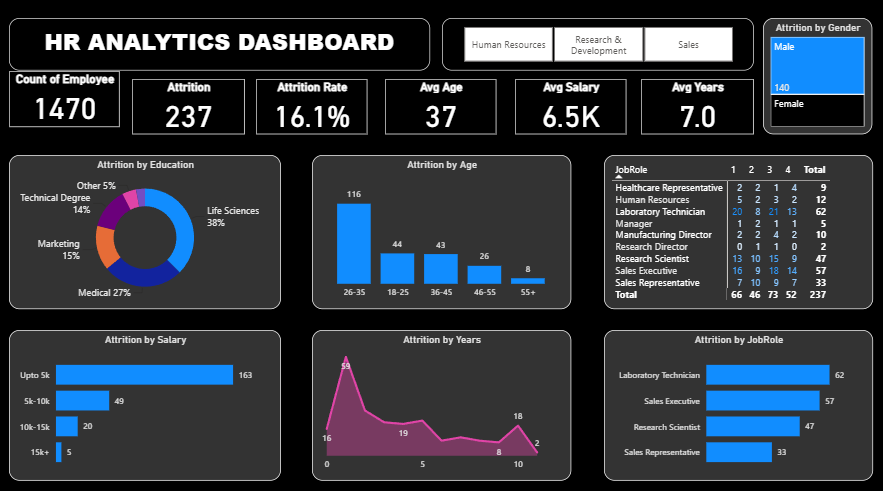

The dashboard page shown, as its layout file describes it:
{"tool":"powerbi","page":{"name":"Page 1","canvas":[1280,720],"ordinal":0},"visuals":[{"type":"card","title":"Count of Employee","fields":{"Values":["CountNonNull(HR_Analytics.EmpID)"]},"box":[23.2,123.4,157.3,78.7],"z":0},{"type":"card","title":"Attrition","fields":{"Values":["Sum(HR_Analytics.AttritionCount)"]},"box":[198.4,123.4,160.9,78.7],"z":1000},{"type":"card","title":"Attrition Rate","fields":{"Values":["HR_Analytics.AttritionRate"]},"box":[375.4,123.4,159.1,78.7],"z":2000},{"type":"card","title":"Avg Age","fields":{"Values":["Avg(HR_Analytics.Age)"]},"box":[559.6,123.4,159.1,78.7],"z":3000},{"type":"card","title":"Avg Salary","fields":{"Values":["Avg(HR_Analytics.MonthlyIncome)"]},"box":[745.5,123.4,159.1,78.7],"z":3001},{"type":"card","title":"Avg Years","fields":{"Values":["Avg(HR_Analytics.YearsAtCompany)"]},"box":[924.2,123.4,160.9,78.7],"z":3002},{"type":"donutChart","title":"Attrition by Education","fields":{"Category":["HR_Analytics.EducationField"],"Y":["Sum(HR_Analytics.AttritionCount)"]},"box":[22.8,231.2,388.1,219.8],"z":3003},{"type":"columnChart","title":"Attrition by Age","fields":{"Category":["HR_Analytics.AgeGroup"],"Y":["Sum(HR_Analytics.AttritionCount)"]},"box":[455.2,231.2,369.6,219.8],"z":3004},{"type":"pivotTable","fields":{"Rows":["HR_Analytics.JobRole"],"Columns":["HR_Analytics.JobSatisfaction"],"Values":["Sum(HR_Analytics.AttritionCount)"]},"box":[871.9,231.2,383.9,219.8],"z":3005},{"type":"barChart","title":"Attrition by Salary","fields":{"Category":["HR_Analytics.SalarySlab"],"Y":["Sum(HR_Analytics.AttritionCount)"]},"box":[22.8,480.9,388.1,215.5],"z":3006},{"type":"barChart","title":"Attrition by JobRole","fields":{"Category":["HR_Analytics.JobRole"],"Y":["Sum(HR_Analytics.AttritionCount)"]},"box":[871.9,480.9,383.9,215.5],"z":3007},{"type":"areaChart","title":"Attrition by Years","fields":{"Category":["HR_Analytics.YearsAtCompany"],"Y":["Sum(HR_Analytics.AttritionCount)"]},"box":[455.2,480.9,369.6,215.5],"z":3008},{"type":"treemap","title":"Attrition by Gender","fields":{"Group":["HR_Analytics.Gender"],"Values":["Sum(HR_Analytics.AttritionCount)"]},"box":[1099.4,35.8,155.5,166.3],"z":3009},{"type":"slicer","fields":{"Values":["HR_Analytics.Department"]},"box":[640,35.8,445.1,75.1],"z":3010},{"type":"textbox","box":[23.2,35.8,600.7,75.1],"z":3011}]}

Visuals, with their boxes in screenshot pixels (x1, y1, x2, y2), scaled from the page's 1280x720 canvas onto the 883x491 screenshot:
"Count of Employee" card: 16,84,125,138
"Attrition" card: 137,84,248,138
"Attrition Rate" card: 259,84,369,138
"Avg Age" card: 386,84,496,138
"Avg Salary" card: 514,84,624,138
"Avg Years" card: 638,84,749,138
"Attrition by Education" donutChart: 16,158,283,308
"Attrition by Age" columnChart: 314,158,569,308
pivotTable - HR_Analytics.JobRole x HR_Analytics.JobSatisfaction: 601,158,866,308
"Attrition by Salary" barChart: 16,328,283,475
"Attrition by JobRole" barChart: 601,328,866,475
"Attrition by Years" areaChart: 314,328,569,475
"Attrition by Gender" treemap: 758,24,866,138
slicer - HR_Analytics.Department: 442,24,749,76
textbox: 16,24,430,76
